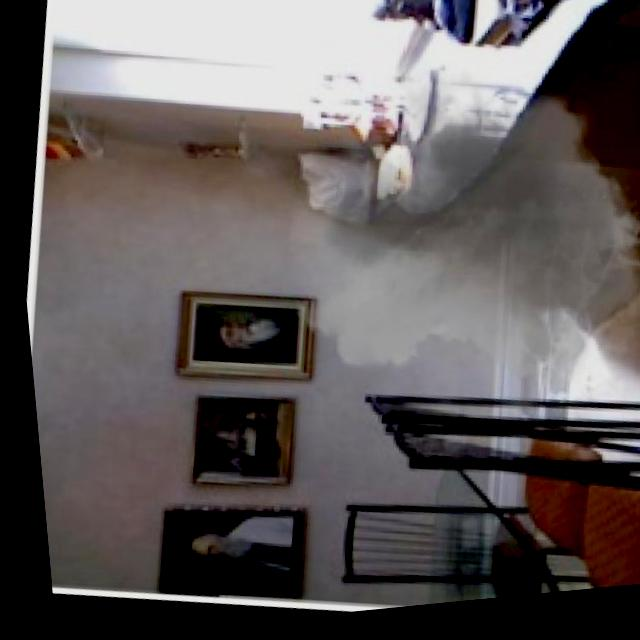Smoke: (263, 42, 640, 481)
